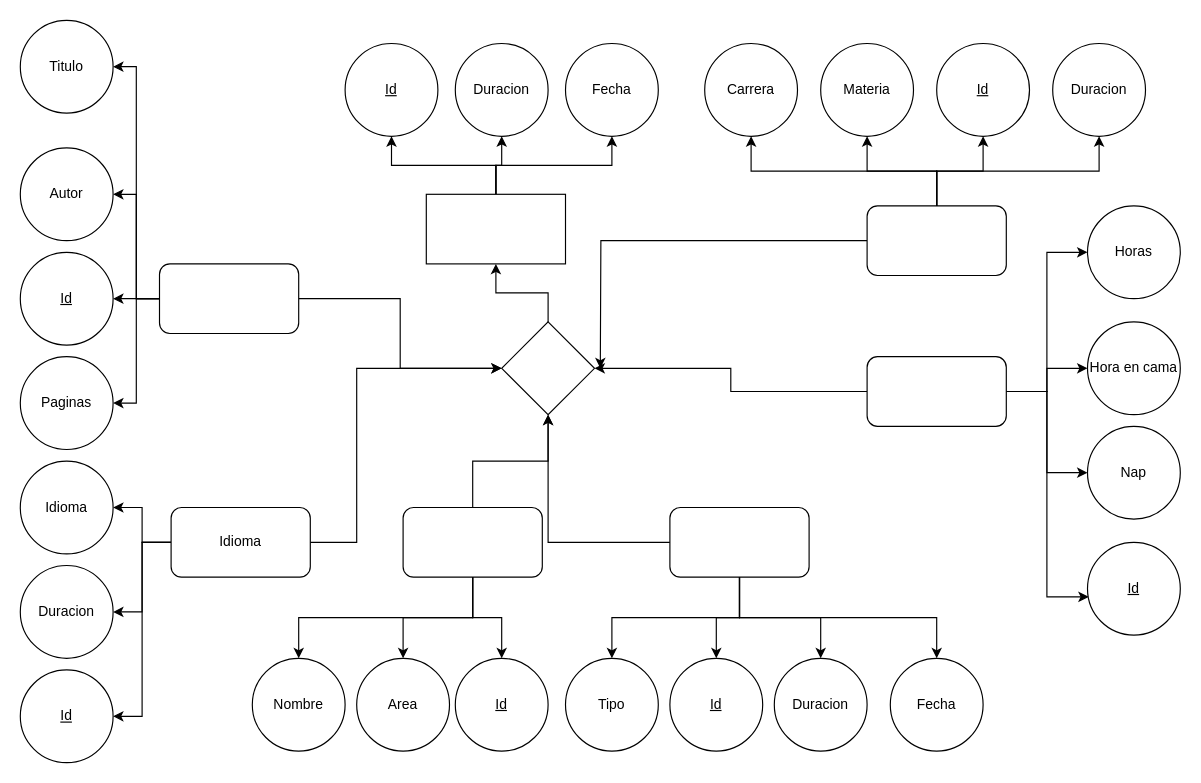
This 1201x783 diagram has some shape labels left out. The shapes that lost their labels are listed below. From the top down, each one's centre as x and y in pixels, then its label:
At pixel 495 228: "Habitos".
At pixel 936 240: "Estudio".
At pixel 228 298: "Libros".
At pixel 547 368: "Pertenece".
At pixel 936 391: "Sueño".
At pixel 472 541: "Proyecto".
At pixel 739 541: "Entreno".
